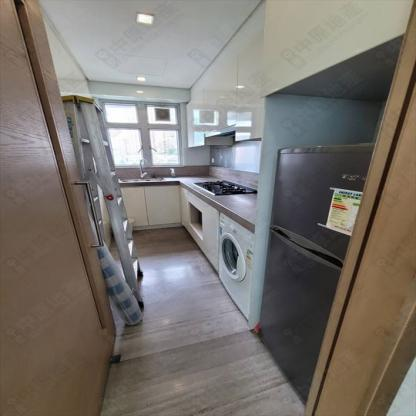Cupboard: (121, 185, 221, 270)
Exhaust Fan: (155, 107, 169, 120)
Exhaust Hood: (204, 124, 236, 137)
Faucet: (138, 157, 152, 179)
Fridge: (257, 142, 374, 408)
Sink: (120, 177, 163, 181)
Stove: (193, 178, 260, 195)
Washing Machine: (216, 212, 252, 320)
